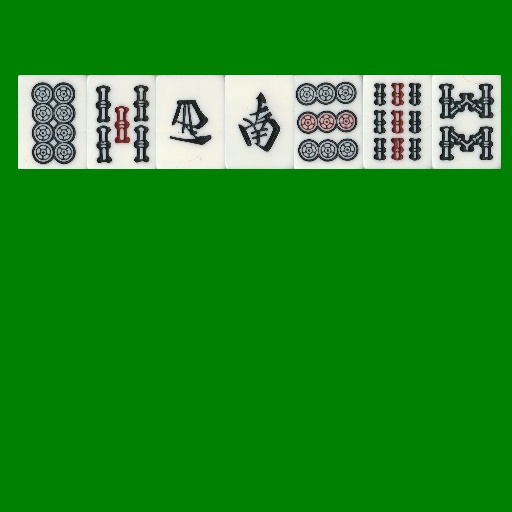5s: (87, 75, 156, 169)
8p: (18, 75, 87, 169)
8s: (432, 75, 501, 169)
9p: (294, 75, 363, 169)
9s: (363, 75, 432, 169)
south: (225, 75, 294, 169)
west: (156, 75, 225, 169)
